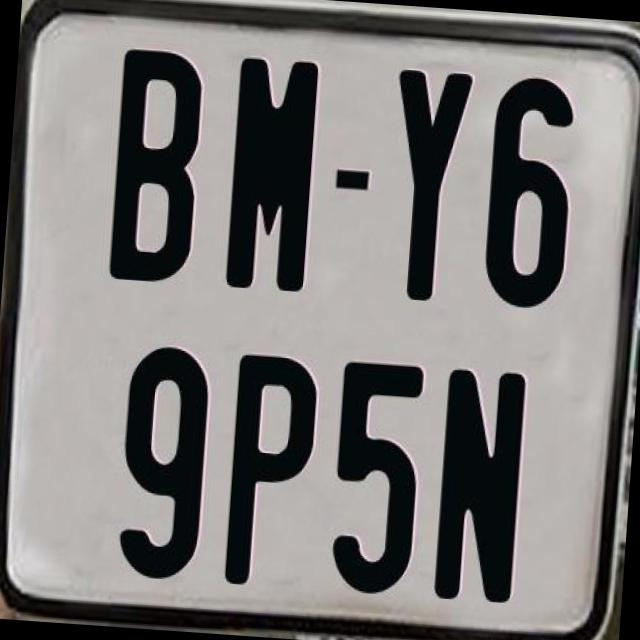5: (326, 355, 426, 592)
6: (482, 70, 576, 310)
9: (112, 342, 214, 584)
B: (105, 48, 208, 286)
M: (220, 56, 314, 292)
N: (428, 368, 526, 612)
P: (220, 349, 316, 591)
Y: (382, 66, 476, 306)
